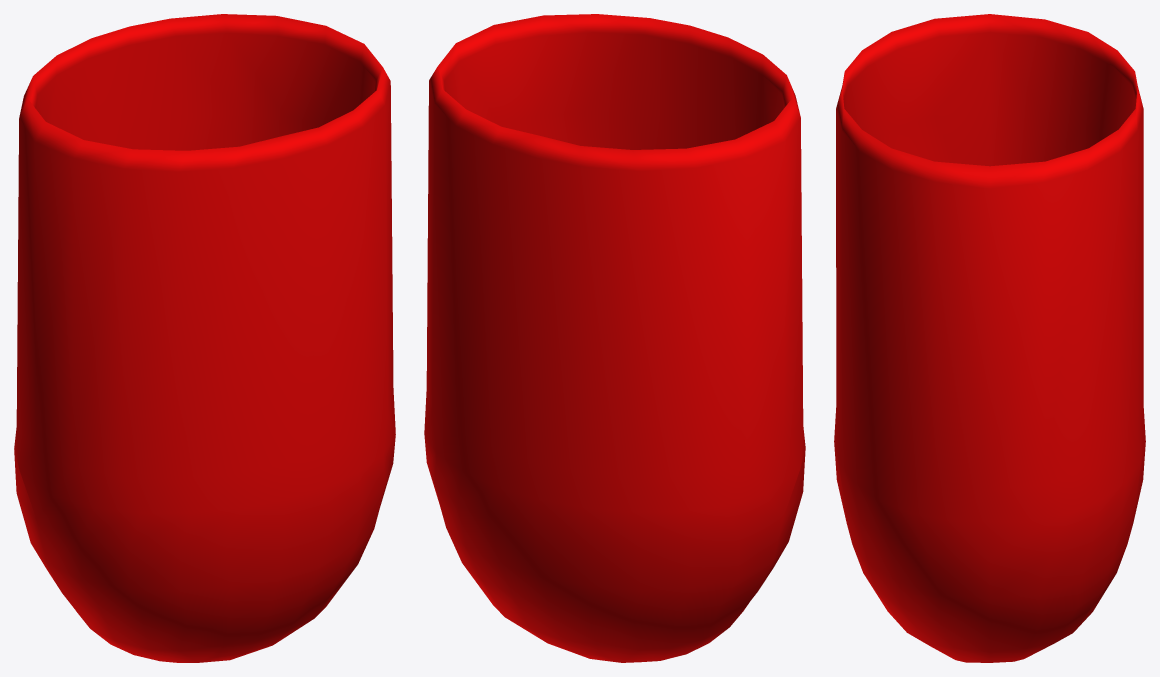
The model's file is BloodCup.fbx.
3 renders of one model, left to right at view 1: azimuth 30°, elevation 25°; view 2: azimuth 150°, elevation 25°; view 3: azimuth 270°, elevation 25°, orthographic. The views are drawn at different scales.
Visible parts, largest first — view 1: BloodCup; view 2: BloodCup; view 3: BloodCup.
Boxes of the visible parts, x1,y1,x2,y2 form: BloodCup: (14, 14, 395, 662); BloodCup: (424, 14, 805, 662); BloodCup: (834, 14, 1145, 662).
Bounding box in the file's own units: 219 × 352 × 178.
